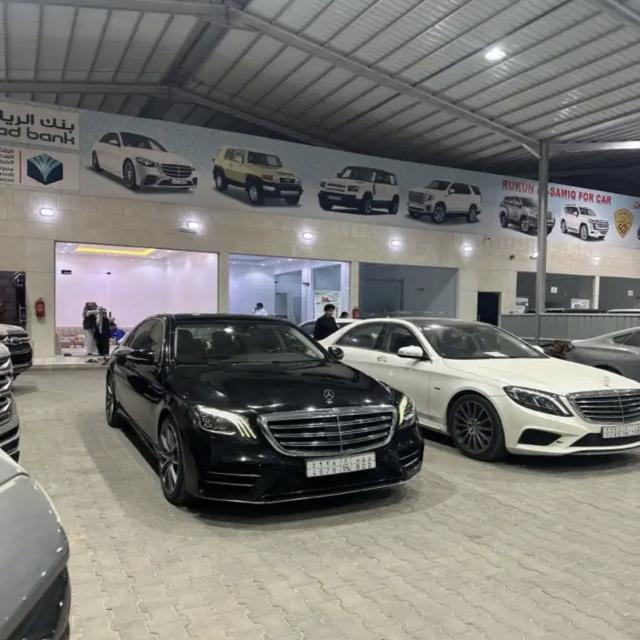license_plate: (306, 452, 377, 477)
